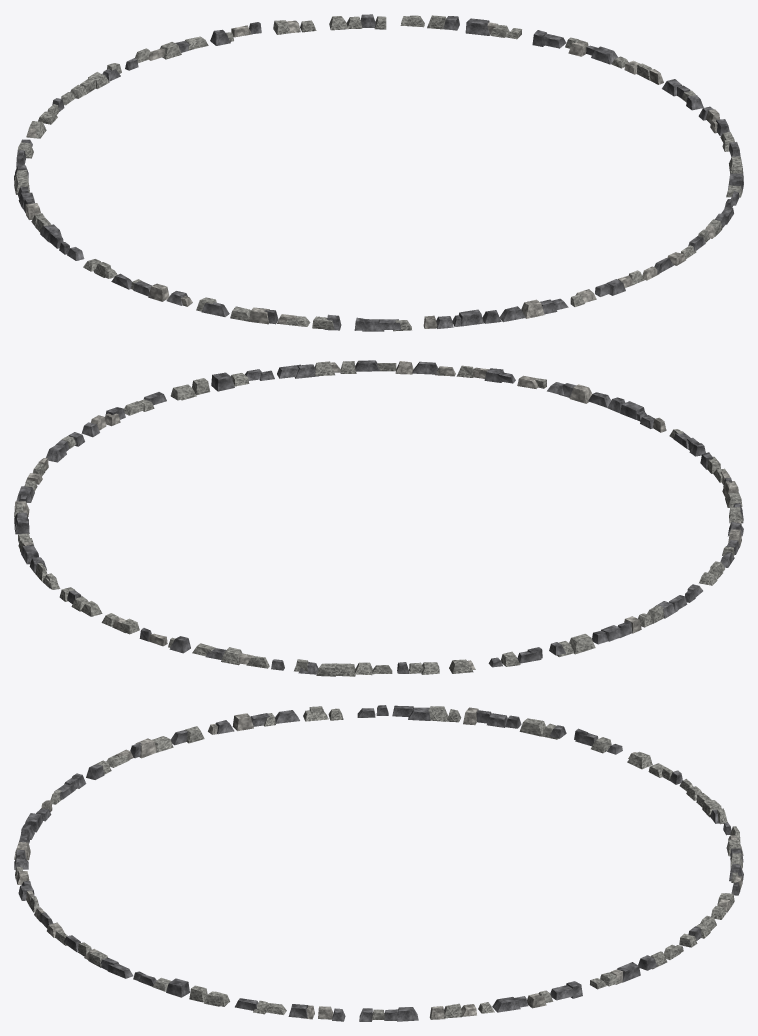
Rendered from island_toe_09.fbx.
3 renders of one model, top to bottom at view 1: azimuth 30°, elevation 25°; view 2: azimuth 150°, elevation 25°; view 3: azimuth 270°, elevation 25°, orthographic.
Visible parts, largest first — view 1: island_toe_09; view 2: island_toe_09; view 3: island_toe_09.
Part boxes in pixels (x1,y1,x2,y2): island_toe_09: (14,14,743,331); island_toe_09: (14,360,743,676); island_toe_09: (14,705,743,1021).
Bounding box in the file's own units: 4307 × 80.04 × 4310.
